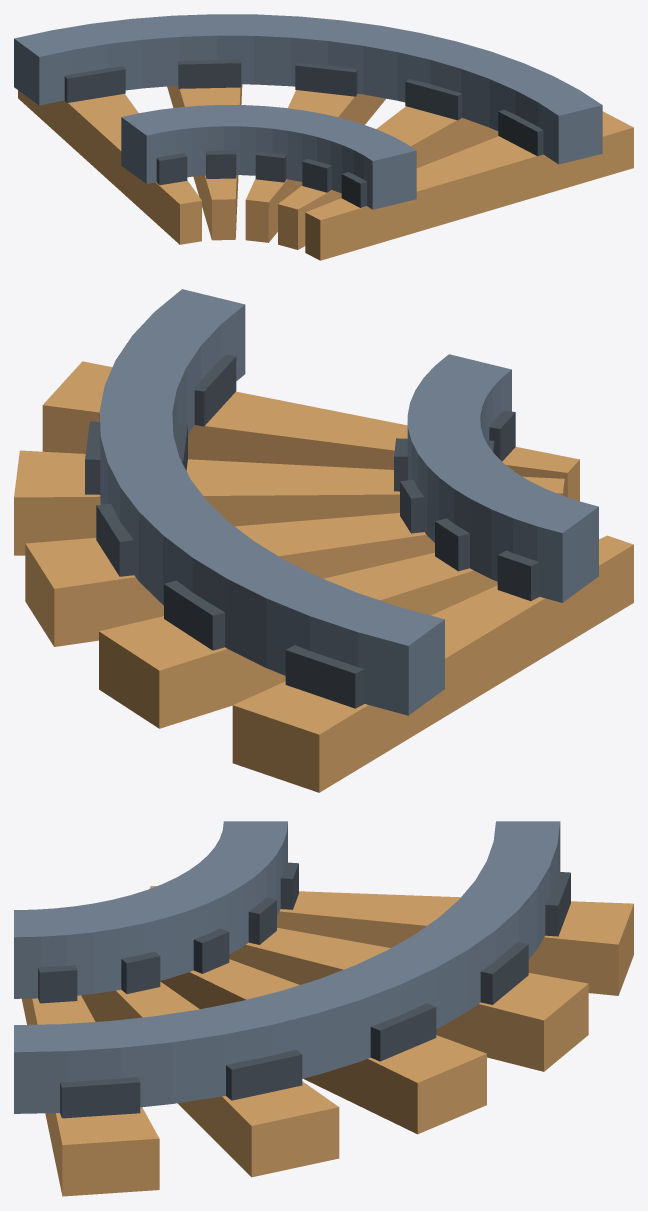
File: minecart_rail_corner.glb
The picture shows the model from 3 angles, top to bottom: view 1: azimuth 30°, elevation 25°; view 2: azimuth 150°, elevation 25°; view 3: azimuth 270°, elevation 25°; orthographic projection. The views are drawn at different scales.
Visible parts, largest first — view 1: MinecartRailCorner; view 2: MinecartRailCorner; view 3: MinecartRailCorner.
Part boxes in pixels (box(x1,y1,x2,y2)): MinecartRailCorner: box(14, 14, 633, 260); MinecartRailCorner: box(14, 289, 633, 792); MinecartRailCorner: box(14, 821, 633, 1196).
Bounding box in the file's own units: 0.8201 × 0.165 × 0.8201.
